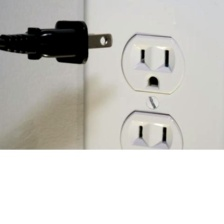three_eye_plug: (78, 0, 223, 174)
